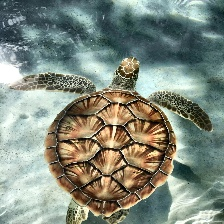seaturtle: (42, 56, 177, 223)
